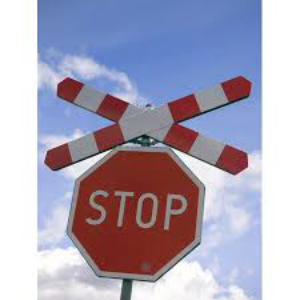STOP_SIGN: (66, 144, 206, 283)
